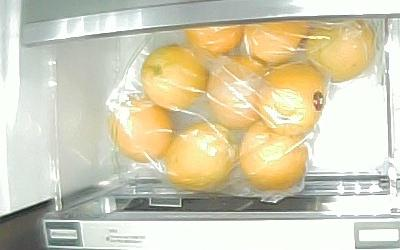orange_vinyl: (238, 118, 308, 193), (257, 61, 325, 135), (165, 122, 235, 190), (304, 21, 377, 83), (207, 55, 267, 129), (141, 45, 208, 108), (110, 97, 172, 163), (245, 20, 310, 62), (184, 25, 245, 56)
